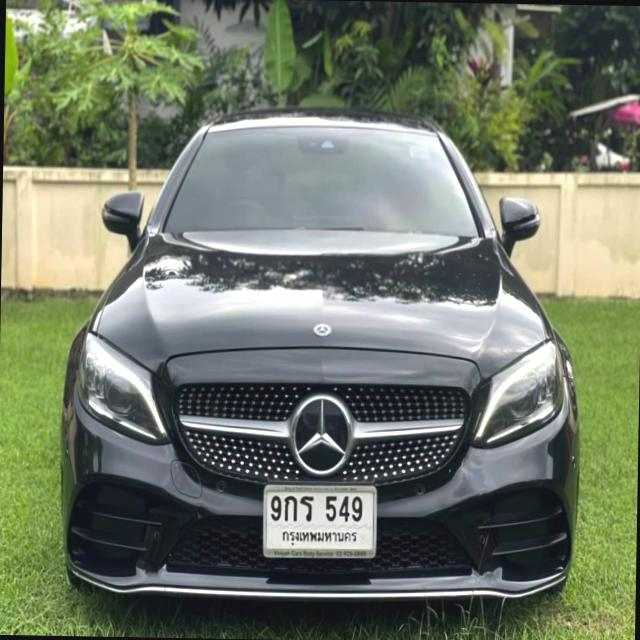license_plate: (260, 479, 377, 560)
